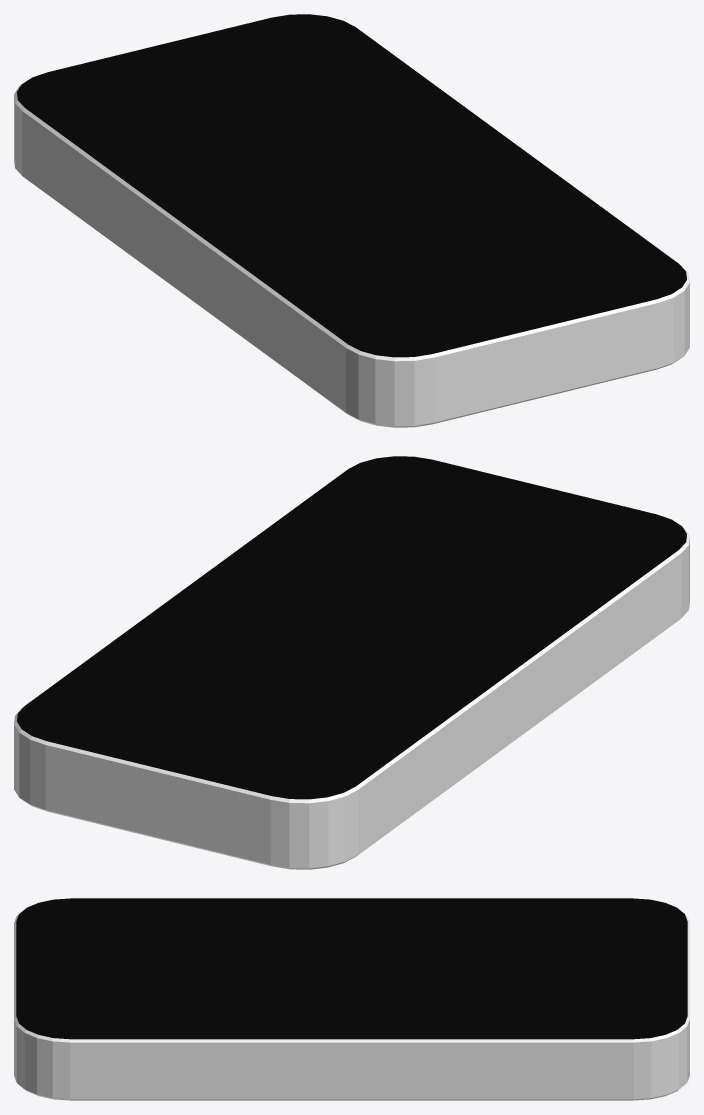
The model's file is phrase_machine_btn_flag.gltf.
The picture shows the model from 3 angles, top to bottom: view 1: azimuth 30°, elevation 25°; view 2: azimuth 150°, elevation 25°; view 3: azimuth 270°, elevation 25°; orthographic projection. The views are drawn at different scales.
Visible parts, largest first — view 1: Cube; view 2: Cube; view 3: Cube.
Boxes of the visible parts, left/top/right/bottom form: Cube: left=14, top=14, right=689, bottom=427; Cube: left=14, top=456, right=689, bottom=869; Cube: left=14, top=898, right=689, bottom=1100.
Bounding box in the file's own units: 1 × 0.2 × 2.
2 materials, 2 textured.
